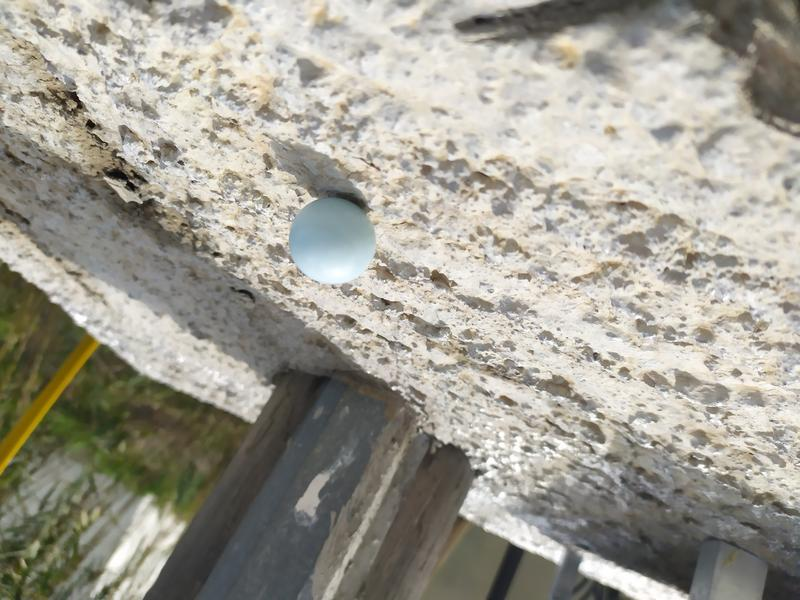Warning: (286, 195, 380, 287)
